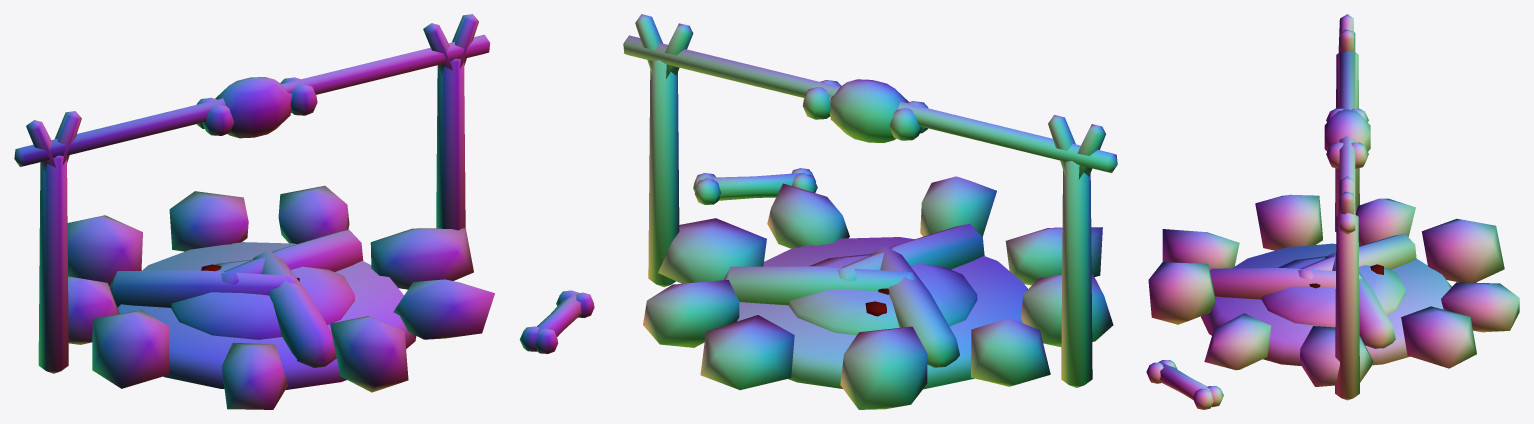
Rendered from SM_Prop_Goblin_FirePit.fbx.
The picture shows the model from 3 angles, left to right: view 1: azimuth 30°, elevation 25°; view 2: azimuth 150°, elevation 25°; view 3: azimuth 270°, elevation 25°; orthographic projection. The views are drawn at different scales.
Parts seen in each view (by area): view 1: SM_Prop_Goblin_FirePit; view 2: SM_Prop_Goblin_FirePit; view 3: SM_Prop_Goblin_FirePit.
Boxes of the visible parts, x1=… form: SM_Prop_Goblin_FirePit: x1=14, y1=14, x2=594, y2=409; SM_Prop_Goblin_FirePit: x1=623, y1=14, x2=1117, y2=409; SM_Prop_Goblin_FirePit: x1=1146, y1=14, x2=1519, y2=409.
Size of the model in its own units: 1.54 by 0.7708 by 1.21.
